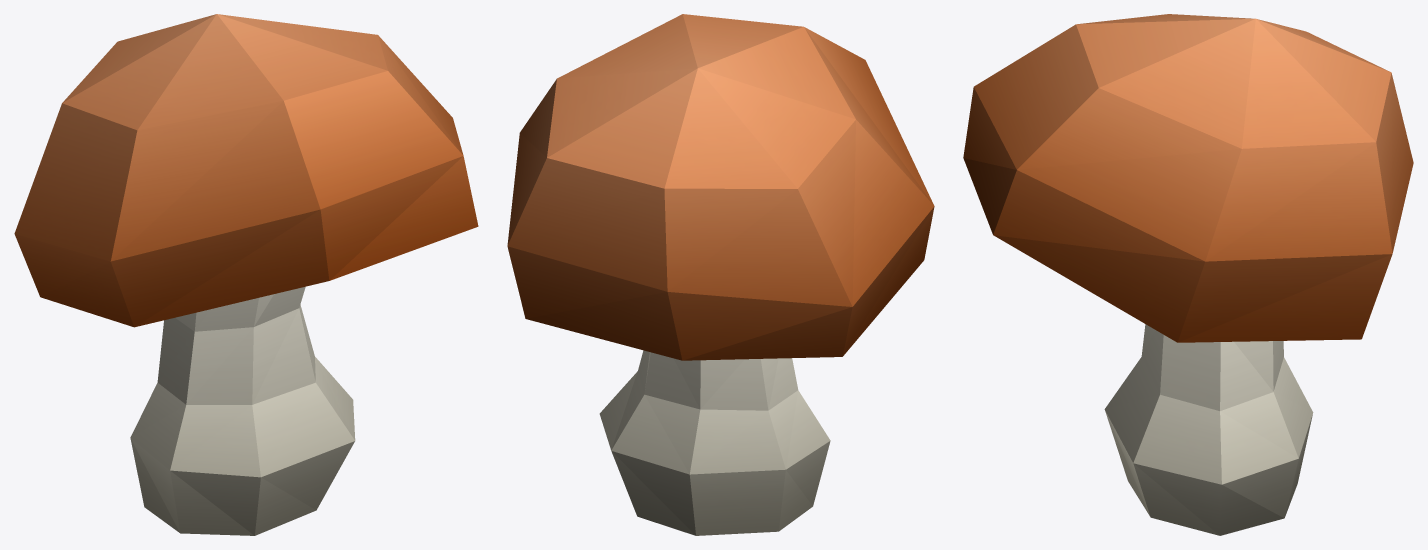
File: MushroomThick-01.FBX
The picture shows the model from 3 angles, left to right: view 1: azimuth 30°, elevation 25°; view 2: azimuth 150°, elevation 25°; view 3: azimuth 270°, elevation 25°; orthographic projection. The views are drawn at different scales.
Parts seen in each view (by area): view 1: MushroomThick-01; view 2: MushroomThick-01; view 3: MushroomThick-01.
Boxes of the visible parts, x1,y1,x2,y2 form: MushroomThick-01: (14, 14, 478, 535); MushroomThick-01: (507, 14, 934, 535); MushroomThick-01: (963, 14, 1413, 535).
Bounding box in the file's own units: 44.23 × 50.62 × 43.38.
1 material, 1 textured.
